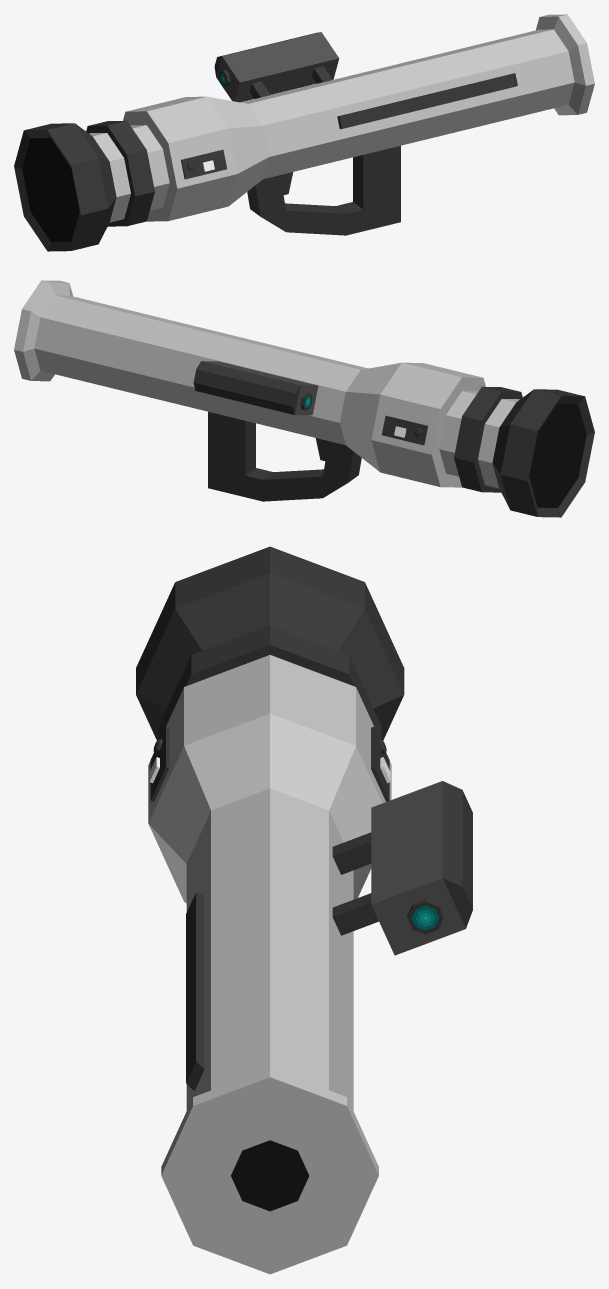
Rendered from Rocket_Launcher_V4.FBX.
The picture shows the model from 3 angles, top to bottom: view 1: azimuth 30°, elevation 25°; view 2: azimuth 150°, elevation 25°; view 3: azimuth 270°, elevation 25°; orthographic projection. The views are drawn at different scales.
Visible parts, largest first — view 1: Rocket_Launcher_V4; view 2: Rocket_Launcher_V4; view 3: Rocket_Launcher_V4.
Part boxes in pixels (x1,y1,x2,y2): Rocket_Launcher_V4: [14, 14, 594, 251]; Rocket_Launcher_V4: [14, 280, 594, 517]; Rocket_Launcher_V4: [136, 546, 472, 1274].
Bounding box in the file's own units: 461 × 147 × 129.
